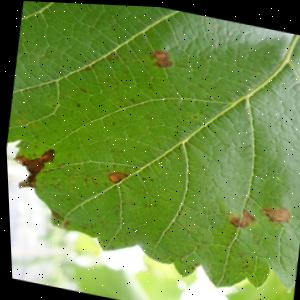Folha: (0, 0, 300, 300)
Fungo: (6, 140, 56, 194), (223, 203, 255, 228), (258, 199, 290, 222), (147, 46, 174, 68), (104, 168, 127, 184), (226, 211, 248, 227), (238, 206, 254, 219), (104, 48, 119, 61), (108, 147, 122, 152), (75, 87, 86, 92), (238, 261, 246, 267), (234, 250, 242, 255), (190, 112, 197, 117), (240, 256, 247, 261)
